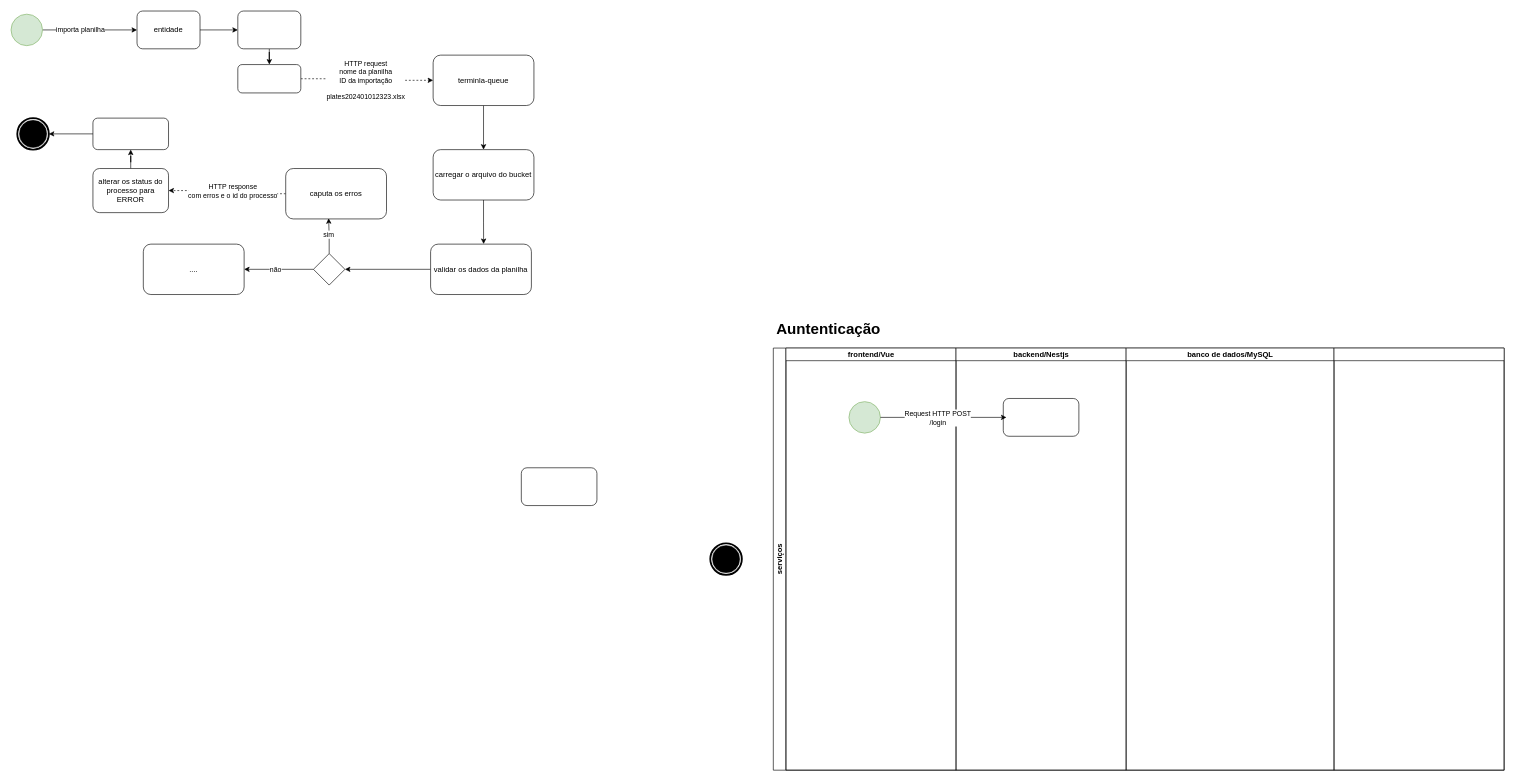
The diagram is 1515 pixels wide and 781 high, and some of its shapes have lost their labels. Here are the shapes that lost their labels. From the top down, the centre of each, then its label:
At (269,29): "cria o registro no massive import".
At (269,78): "salva a planilha no bucket".
At (130,133): "salvar os erros no entidade".
At (329,269): "Os dados da planilha possuem erros?".
At (1418,558): "Keycloak".
